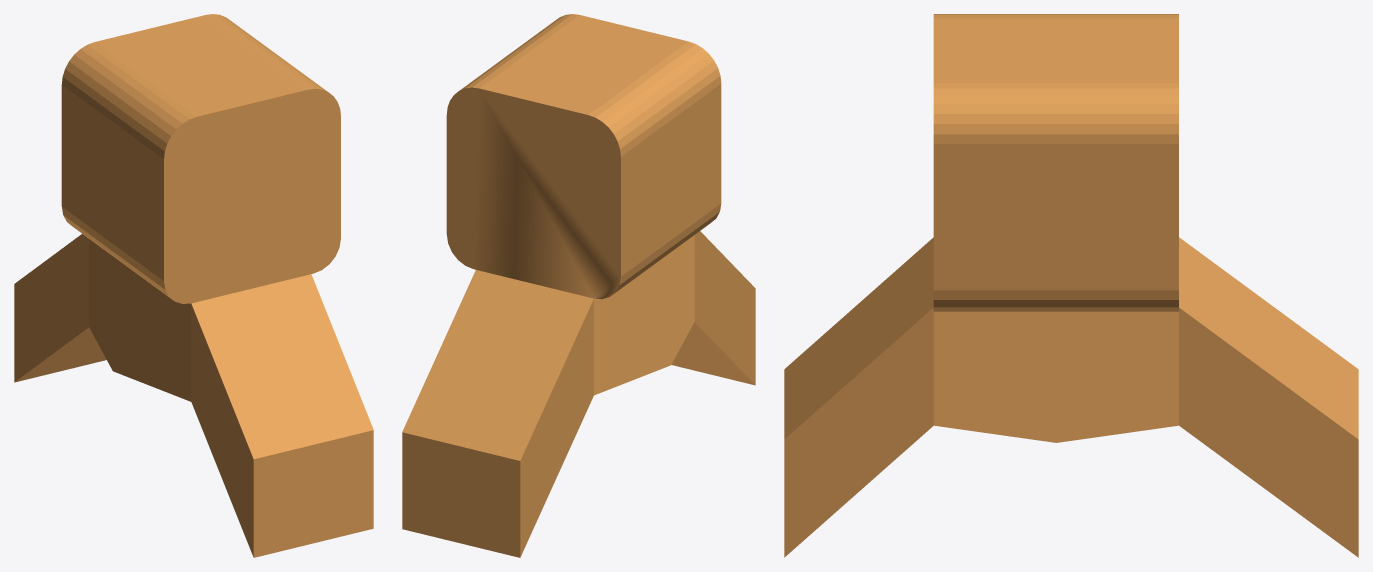
3 views of the same model, side by side, from view 1: azimuth 30°, elevation 25°; view 2: azimuth 150°, elevation 25°; view 3: azimuth 270°, elevation 25° (orthographic). The views are drawn at different scales.
Parts seen in each view (by area): view 1: Cube.001; view 2: Cube.001; view 3: Cube.001.
Part boxes in pixels (x1,y1,x2,y2): Cube.001: (14,14,373,557); Cube.001: (402,14,755,557); Cube.001: (784,14,1358,557).
Bounding box in the file's own units: 491 × 1044 × 1151.
